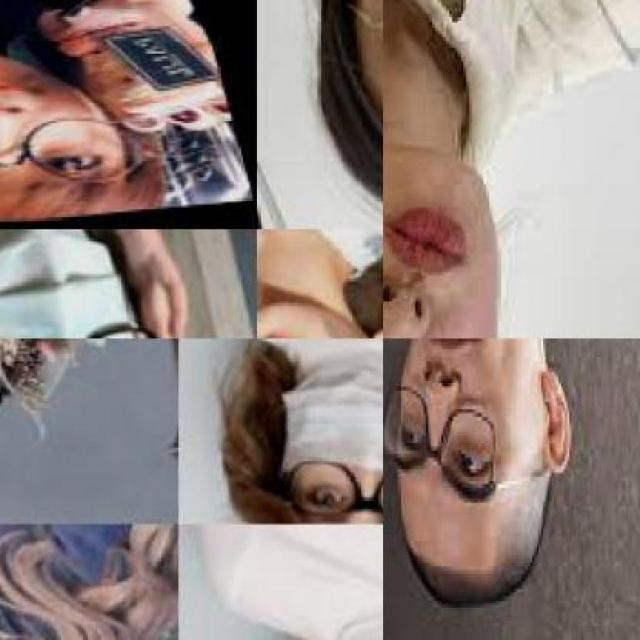glasses: (0, 103, 155, 203), (383, 386, 497, 486), (269, 452, 382, 525)
